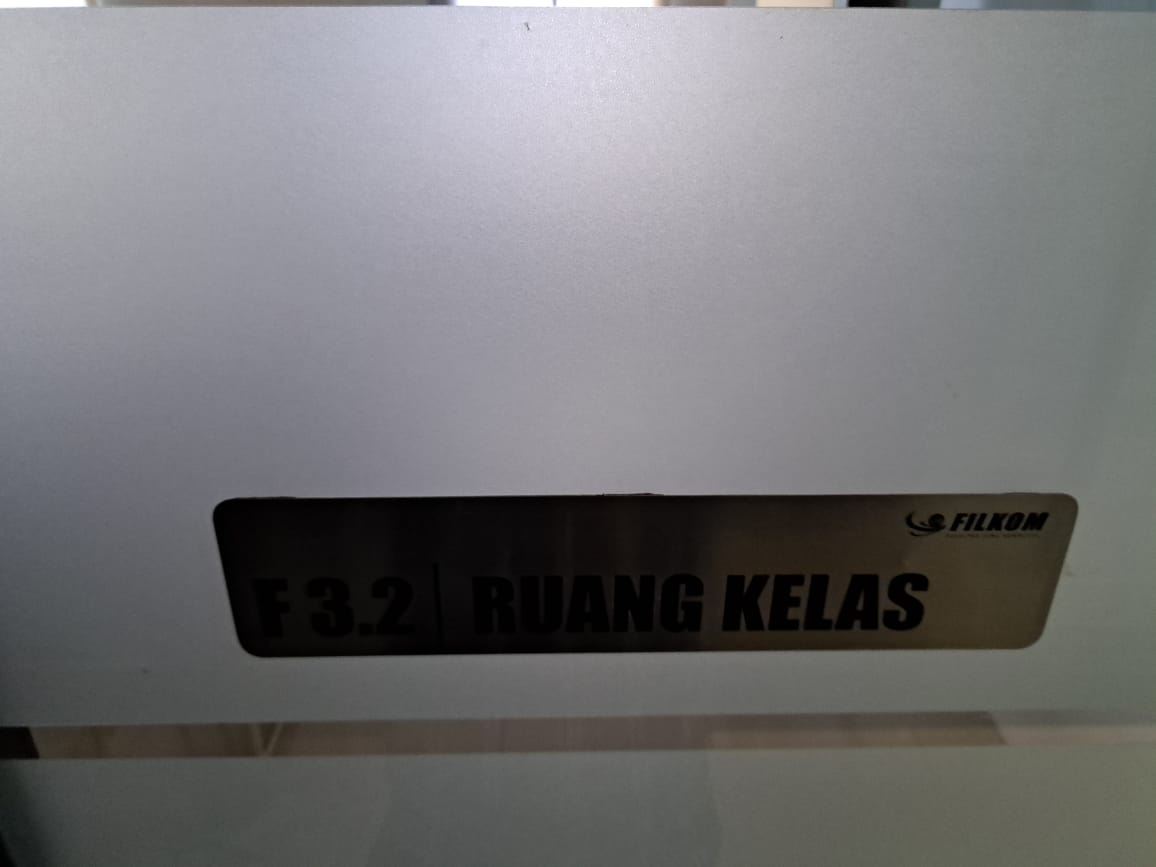ruangan: (194, 483, 1087, 663)
